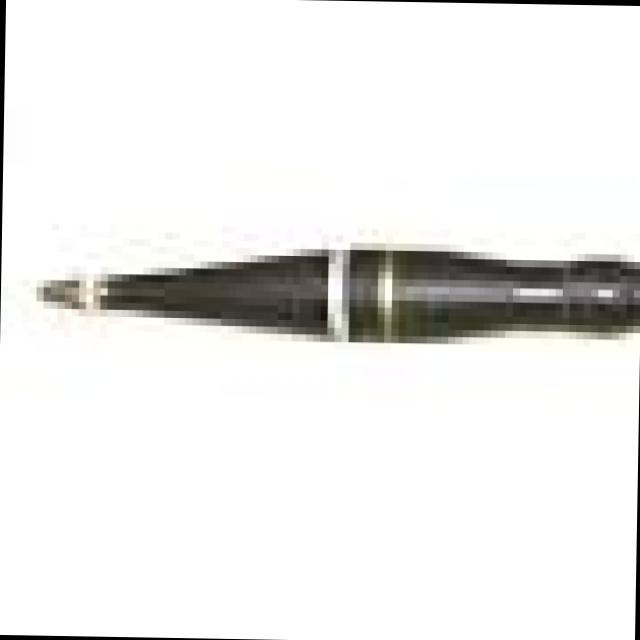Gun: (5, 129, 640, 460)
